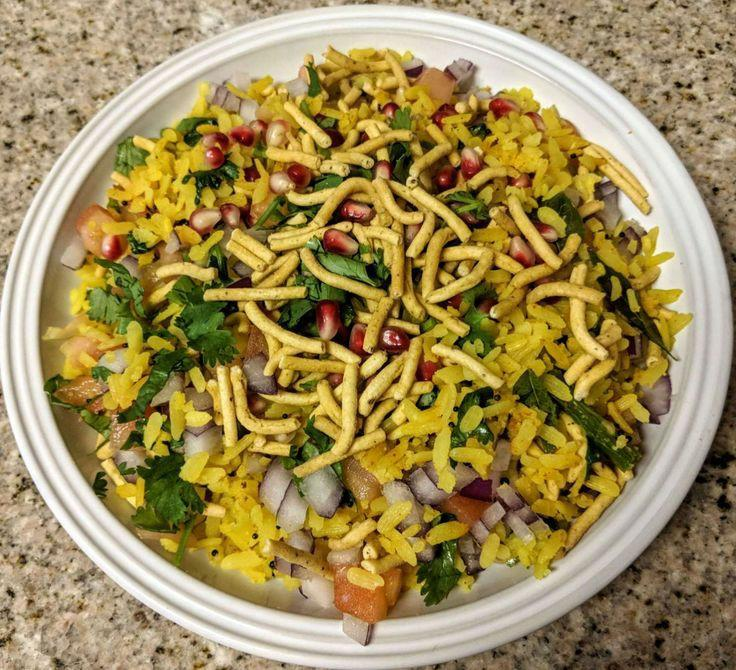Poha: (49, 40, 690, 619)
